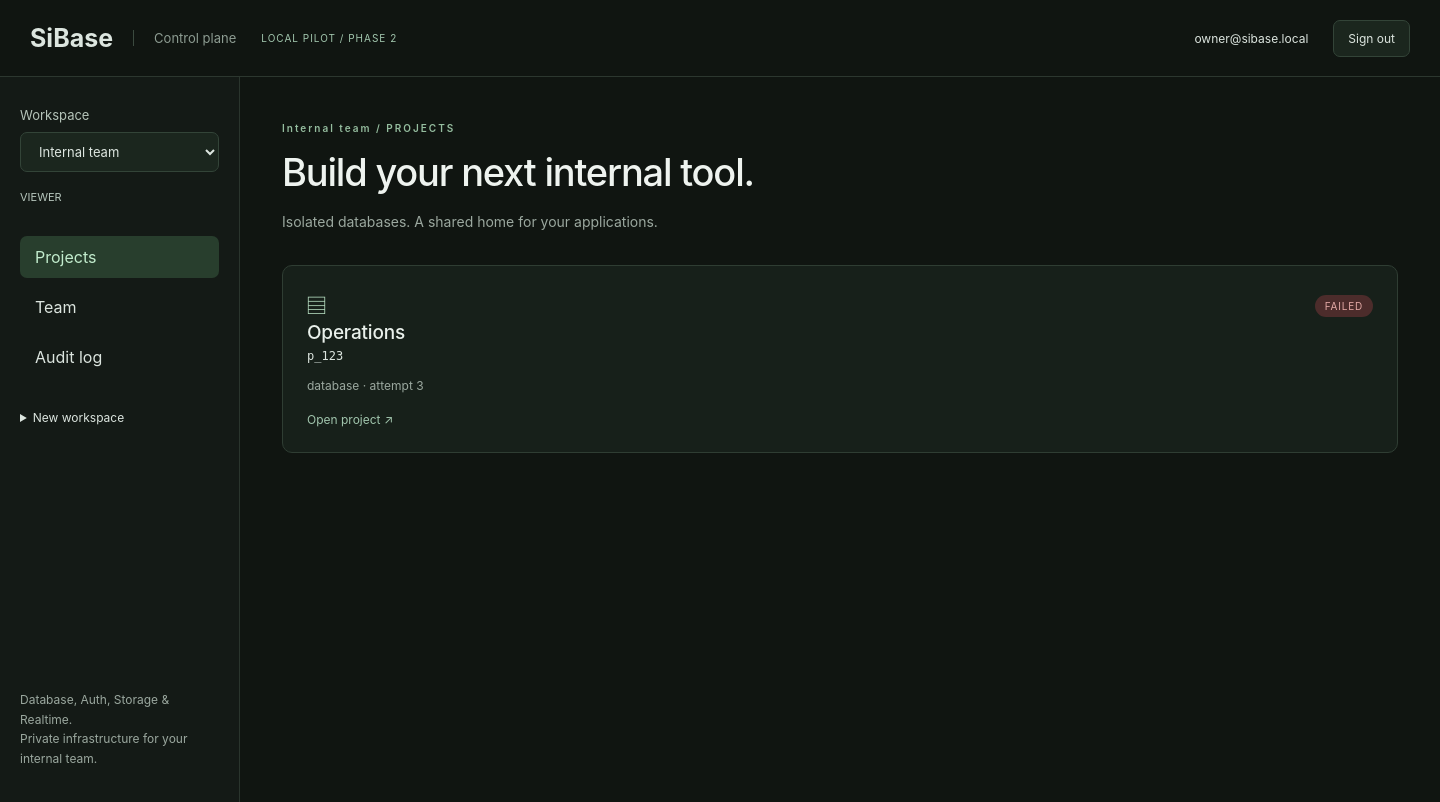
Test: Phase 2 control dashboard › does not offer privileged actions to Viewer
Click the button "Operations". click: click(840, 359)
box: [282,265,1398,453]
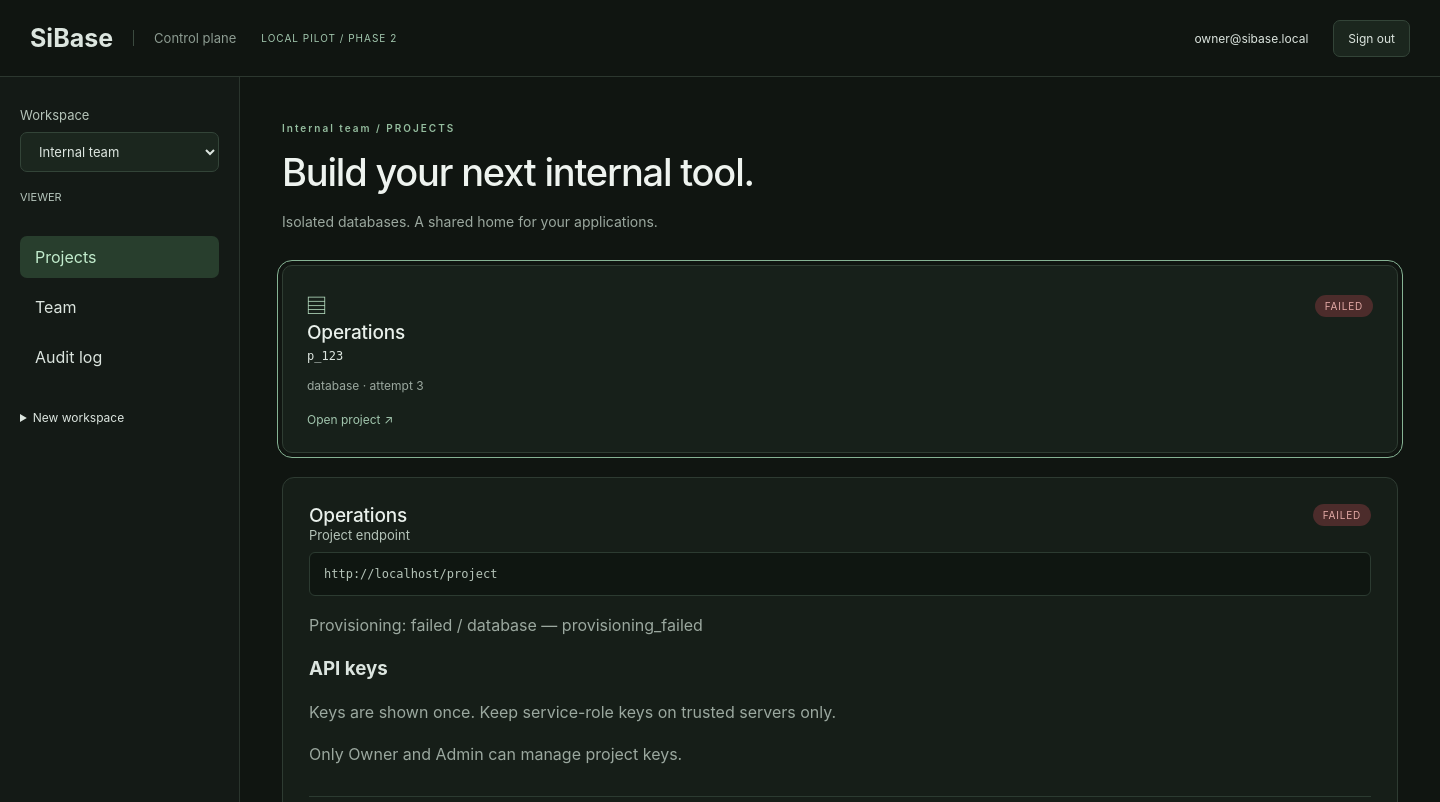
Expected: the text "Only Owner and Admin can manage project keys." is shown, [309,744,682,764]
